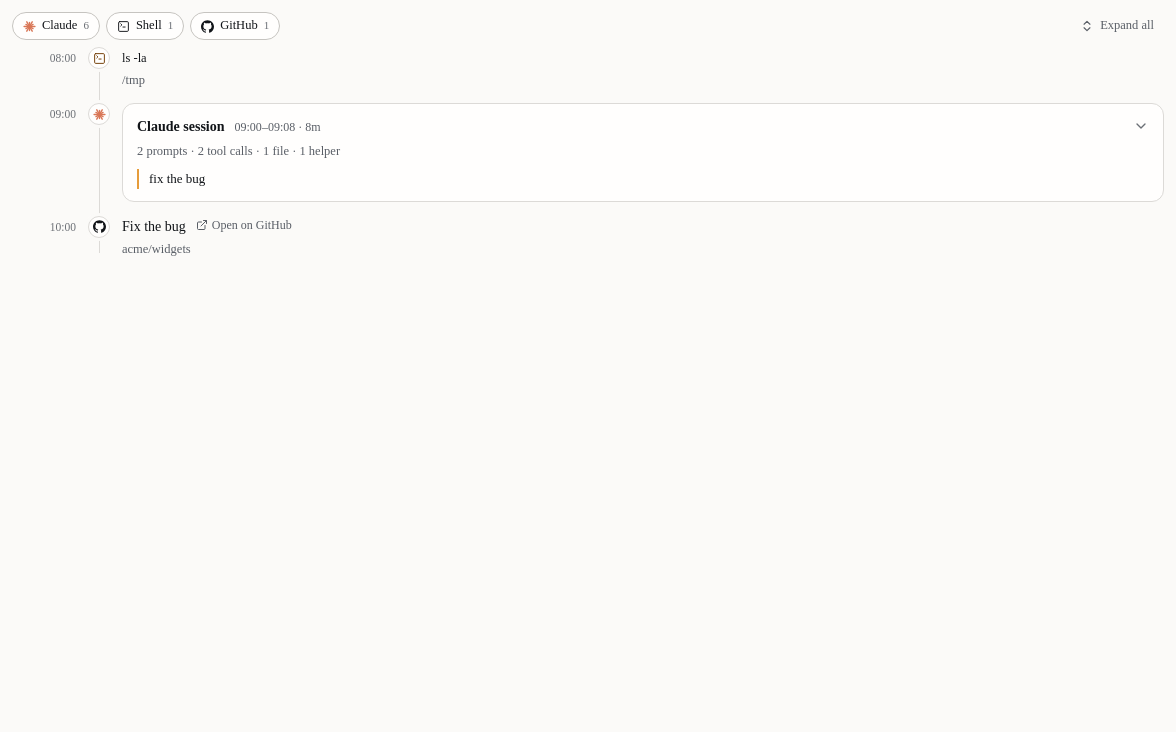
BlockDetails timeline › folds the Claude session into prompt -> tools -> files, with the helper group nested inside
Click the button "Claude session". click: {"x": 181, "y": 126}
box: [123,104,1163,201]
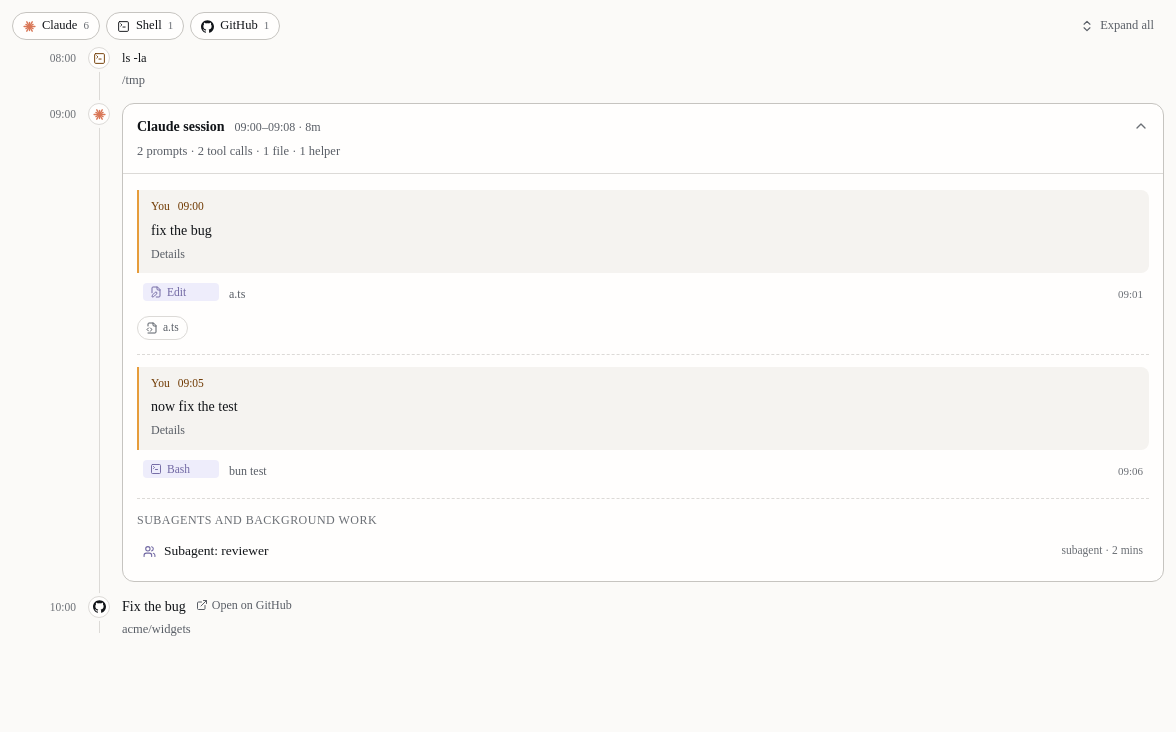
Expected: the text "now fix the test" is shown, [151,399,238,414]
Expected: the text "Edit" is shown, [143,283,219,301]
Expected: the text "Bash" is shown, [143,460,219,478]
Click the button "Subagent: reviewer subagent · 2 mins". click: {"x": 216, "y": 550}
box: [137,536,1149,567]
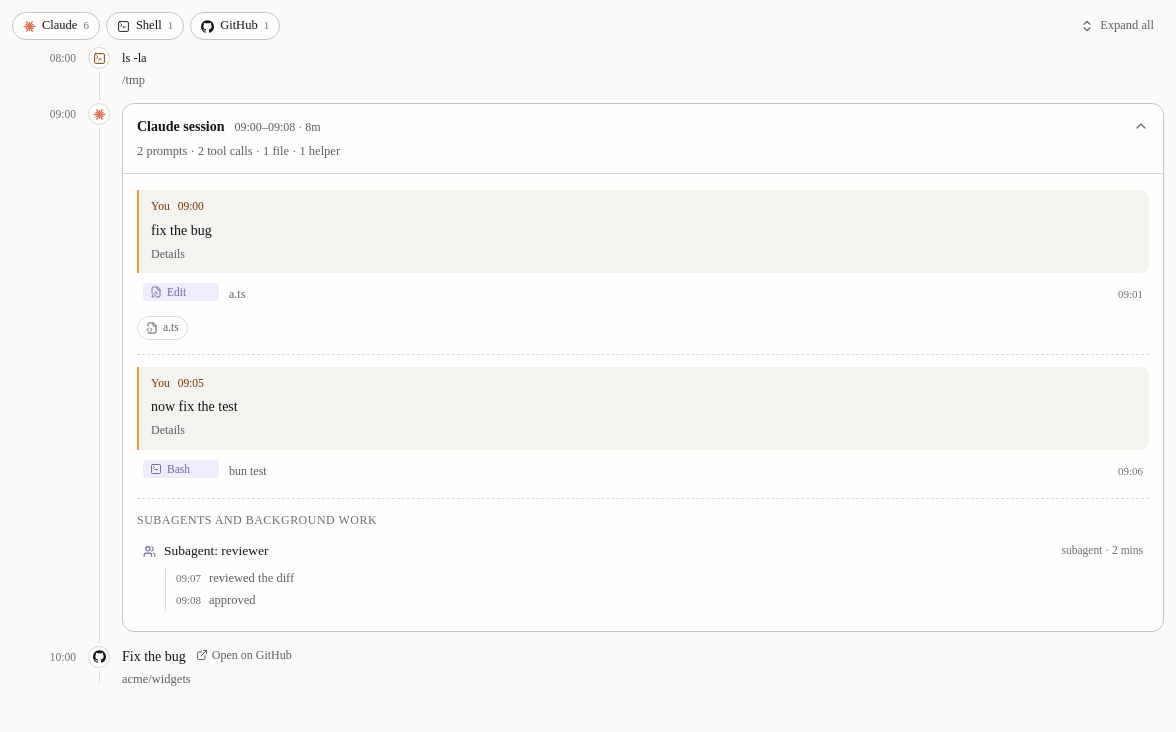
Expected: the text "reviewed the diff" is shown, [209,571,294,585]
Expected: the text "approved" is shown, [209,593,256,607]
